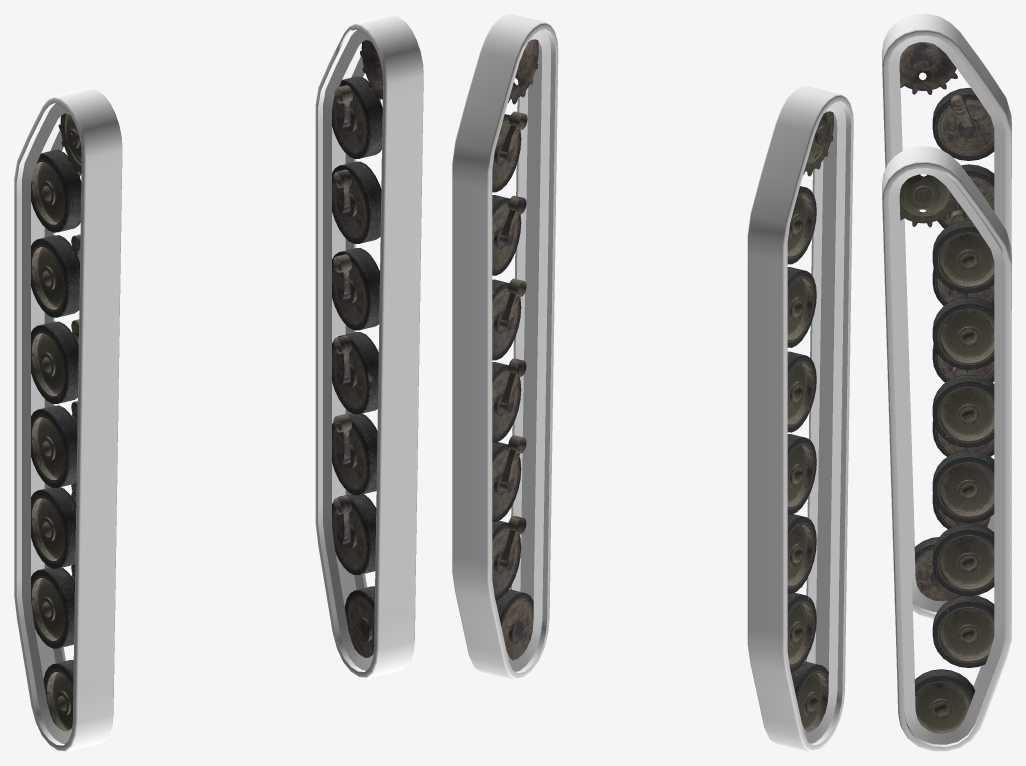
Rendered from Chassis.glb.
The picture shows the model from 3 angles, left to right: view 1: azimuth 30°, elevation 25°; view 2: azimuth 150°, elevation 25°; view 3: azimuth 270°, elevation 25°; orthographic projection. The views are drawn at different scales.
Parts seen in each view (by area): view 1: set_0_group_0, set_1_group_0, set_2_group_0, set_3_group_0; view 2: set_1_group_0, set_0_group_0, set_3_group_0, set_2_group_0; view 3: set_3_group_0, set_0_group_0, set_1_group_0, set_2_group_0.
Boxes of the visible parts, bbox=[...] form: set_0_group_0: bbox=[315, 14, 423, 678]; set_1_group_0: bbox=[14, 87, 122, 751]; set_2_group_0: bbox=[31, 113, 81, 731]; set_3_group_0: bbox=[332, 40, 382, 657]; set_1_group_0: bbox=[747, 86, 853, 751]; set_0_group_0: bbox=[452, 14, 558, 679]; set_3_group_0: bbox=[492, 39, 538, 660]; set_2_group_0: bbox=[787, 111, 833, 732]; set_3_group_0: bbox=[899, 174, 994, 733]; set_0_group_0: bbox=[882, 146, 1011, 751]; set_1_group_0: bbox=[882, 14, 1011, 618]; set_2_group_0: bbox=[899, 42, 994, 601].
Size of the model in its own units: 2.67 by 4.93 by 0.9806.
4 materials, 2 textured.
